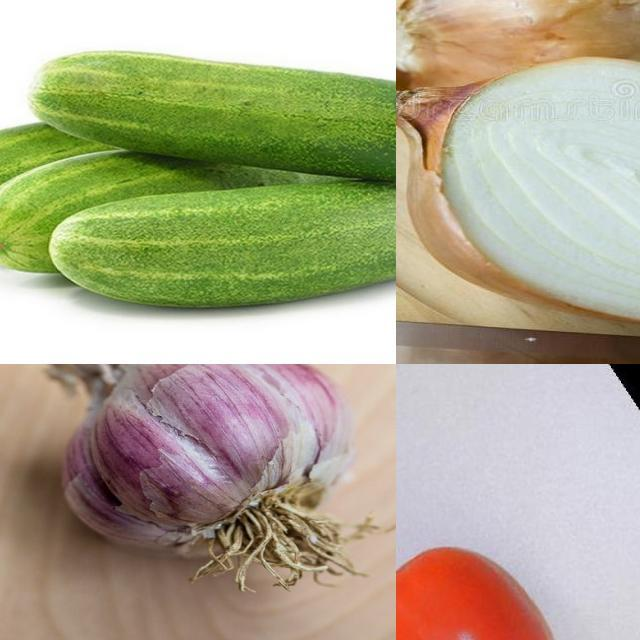cucumber: (11, 42, 397, 184), (45, 175, 397, 304)
garlic: (59, 365, 385, 596)
onion: (397, 59, 640, 337), (397, 1, 640, 130)
tomato: (397, 531, 586, 640)
